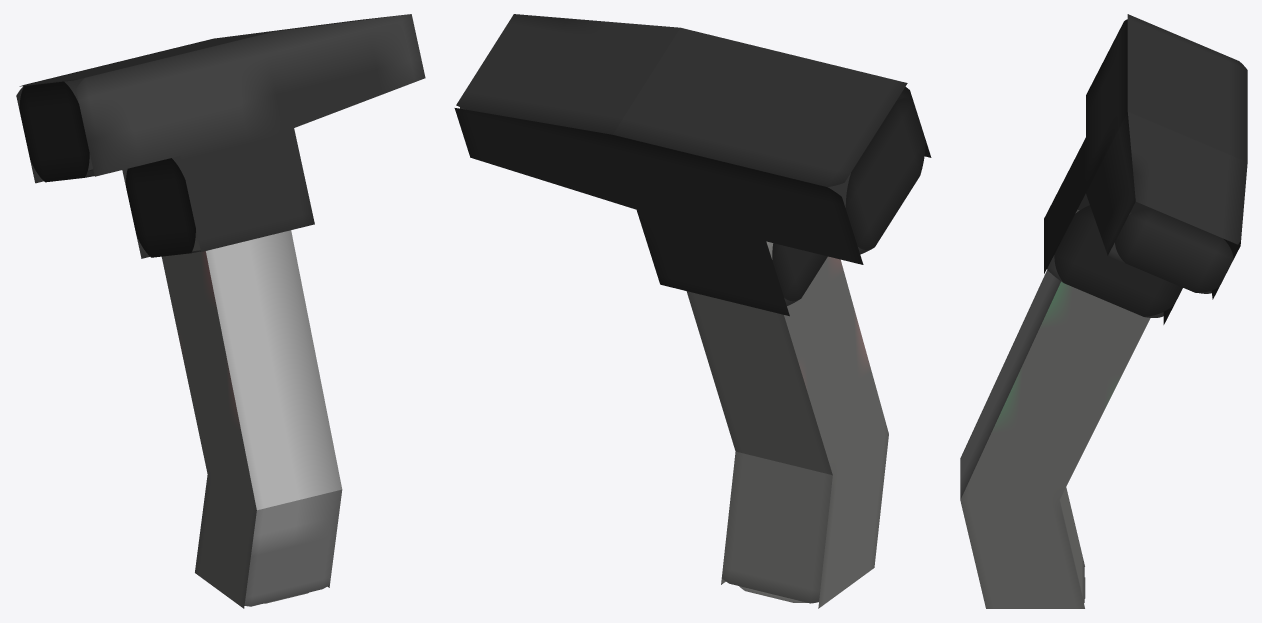
File: power.obj
3 views of the same model, side by side, from view 1: azimuth 30°, elevation 25°; view 2: azimuth 150°, elevation 25°; view 3: azimuth 270°, elevation 25° (orthographic). The views are drawn at different scales.
Size of the model in its own units: 0.15 by 0.2103 by 0.1086.
